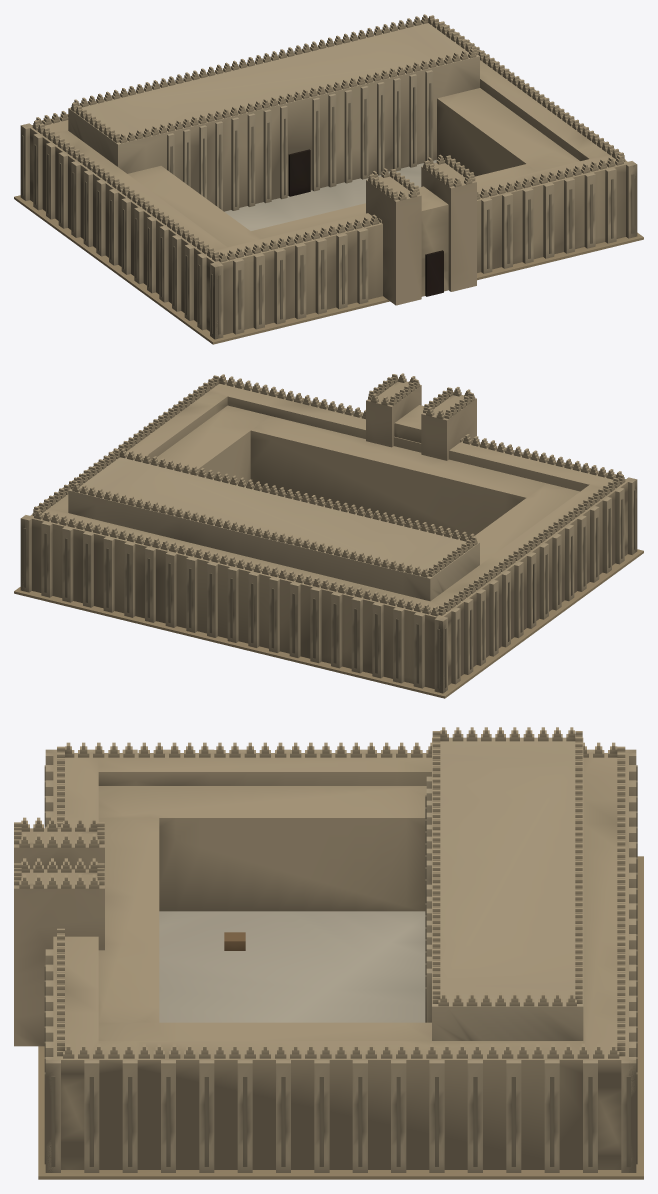
Rendered from nabu-sha-hare.glb.
The picture shows the model from 3 angles, top to bottom: view 1: azimuth 30°, elevation 25°; view 2: azimuth 150°, elevation 25°; view 3: azimuth 270°, elevation 25°; orthographic projection. The views are drawn at different scales.
Parts seen in each view (by area): view 1: p1_court and cella, p0_walls, p2_gate towers; view 2: p0_walls, p1_court and cella, p2_gate towers; view 3: p1_court and cella, p0_walls, p2_gate towers.
Boxes of the visible parts, box(x1,y1,x2,y2) form: p1_court and cella: box(68, 23, 579, 247); p0_walls: box(14, 24, 643, 344); p2_gate towers: box(32, 14, 625, 305); p0_walls: box(14, 377, 643, 698); p1_court and cella: box(68, 405, 579, 601); p2_gate towers: box(32, 373, 625, 616); p1_court and cella: box(98, 737, 583, 1040); p0_walls: box(38, 749, 643, 1179); p2_gate towers: box(14, 727, 625, 1058).
Bounding box in the file's own units: 50 × 12.55 × 41.6.
